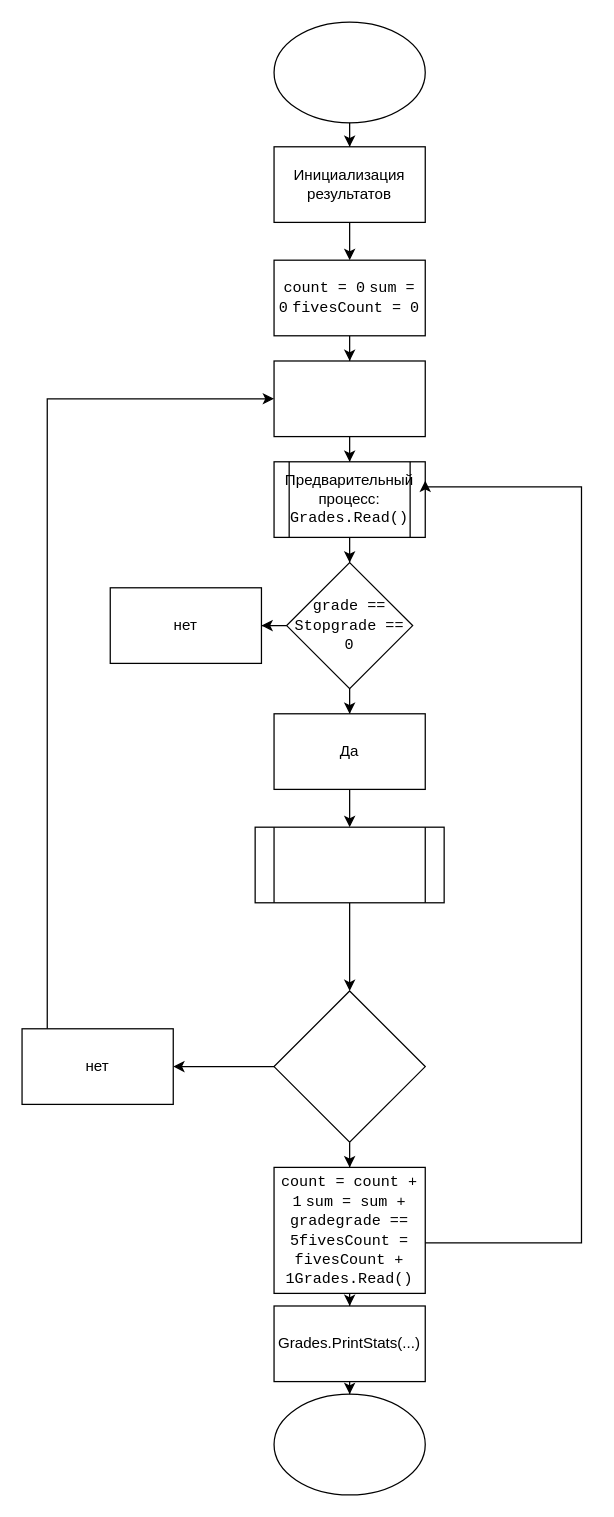
The diagram is 614 pixels wide and 1517 high, and some of its shapes have lost their labels. The box of each missing label's shape, as (x1, y1, x2, y2) in pixels:
IsValid == true? Оценка корректна?: (273, 990, 425, 1142)
конец: (273, 1393, 425, 1495)
начало: (273, 21, 425, 123)
Начало цикла / Вход в цикл: (273, 360, 425, 437)
Предварительный процесс: Grades.IsValid(grade): (254, 826, 444, 903)
